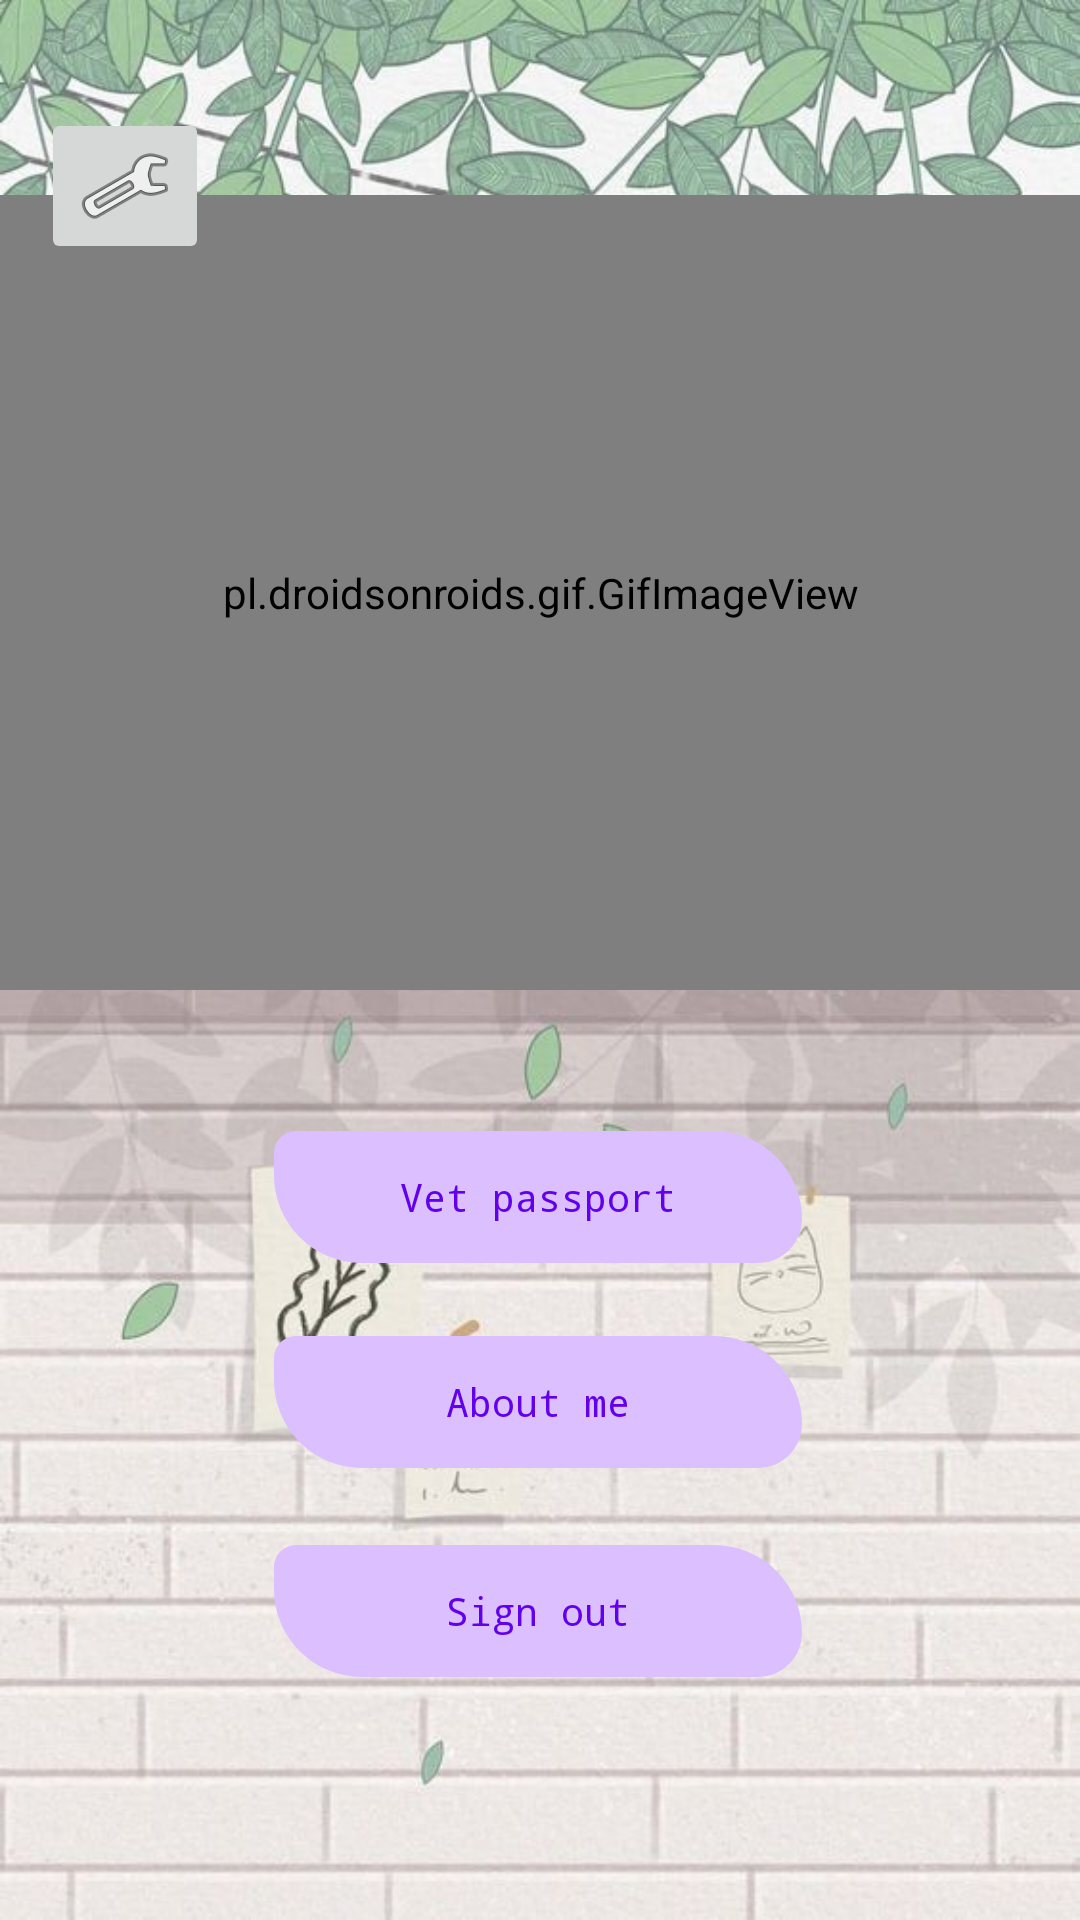

Icons on this 1080×1920 Android screen, each with the point to tap as [x,y]:
Settings: [125,186]
